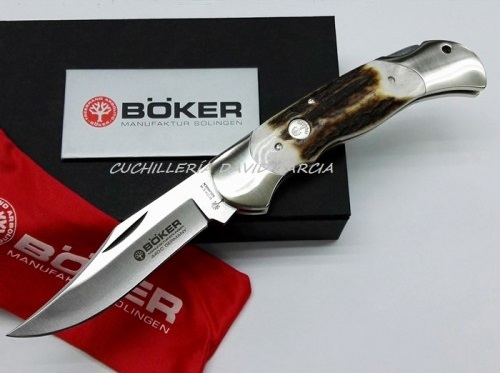knife: (1, 155, 244, 350)
